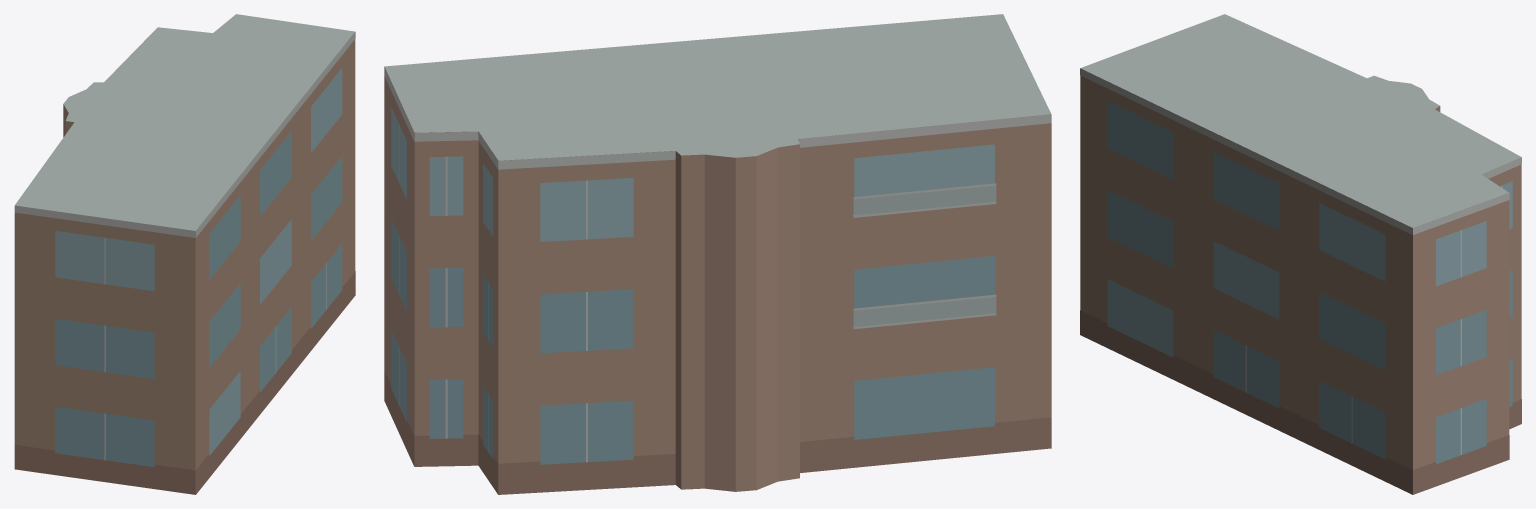
File: survey-upis-32641511.glb
3 renders of one model, left to right at view 1: azimuth 30°, elevation 25°; view 2: azimuth 150°, elevation 25°; view 3: azimuth 270°, elevation 25°, orthographic. The views are drawn at different scales.
Visible parts, largest first — view 1: survey-upis-32641511.tmp; view 2: survey-upis-32641511.tmp; view 3: survey-upis-32641511.tmp.
Part boxes in pixels (box(x1,y1,x2,y2)): survey-upis-32641511.tmp: box(14, 14, 355, 494); survey-upis-32641511.tmp: box(384, 14, 1051, 494); survey-upis-32641511.tmp: box(1080, 14, 1521, 494).
Size of the model in its own units: 15.75 by 9.15 by 13.73.
